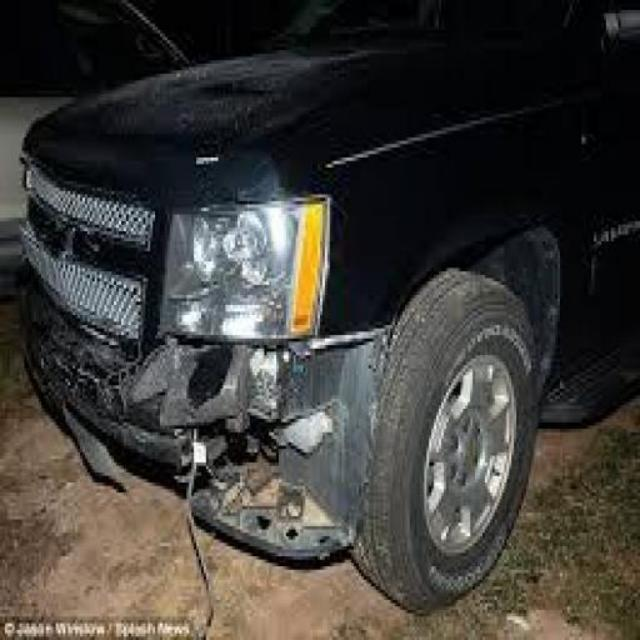no part: (15, 273, 384, 561)
